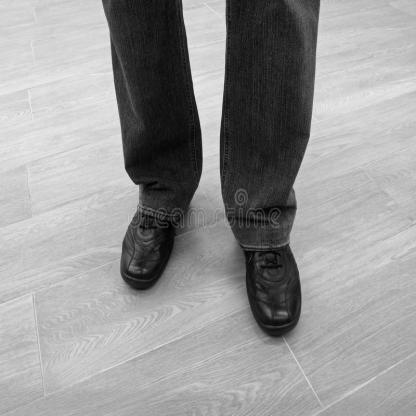ankle: (266, 254, 269, 257), (151, 219, 153, 221)
heel: (246, 251, 248, 255), (173, 223, 176, 225)
left_foot: (244, 204, 303, 335)
pinky: (123, 250, 127, 257), (297, 300, 300, 306)
right_foot: (121, 175, 182, 290)
toe: (261, 307, 266, 314), (153, 271, 156, 276)
